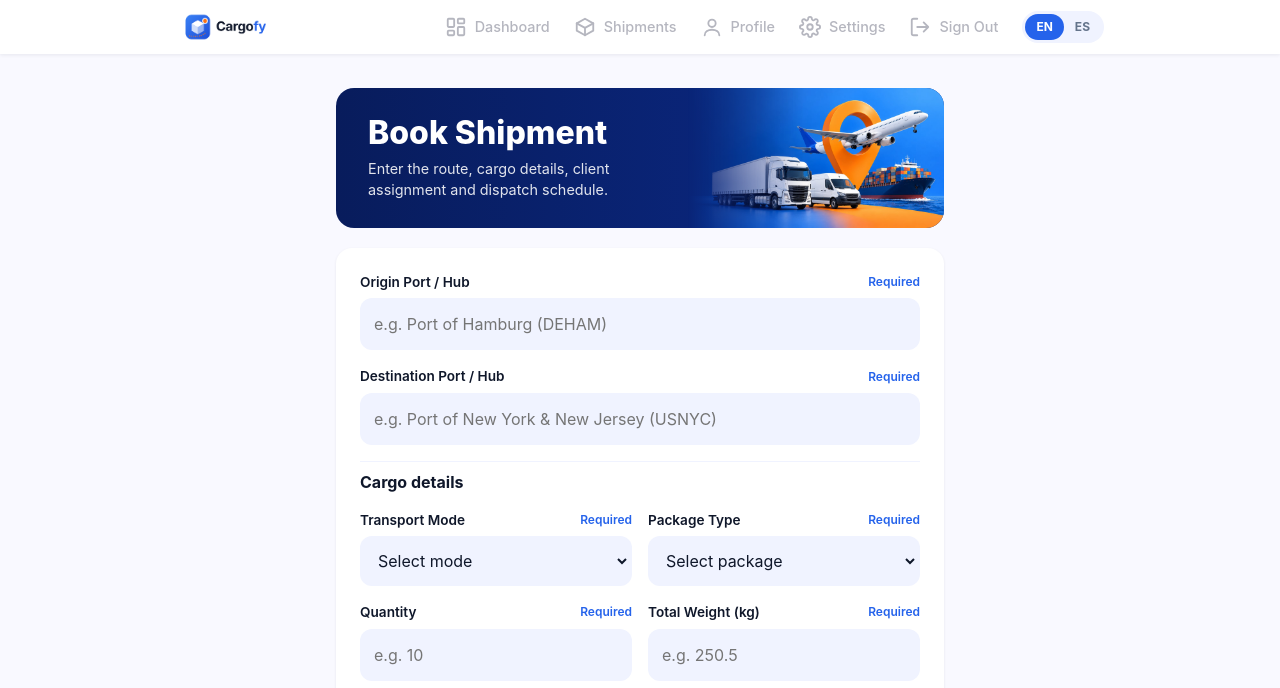
it: NewShipmentView › shows the server error message when creating fails
The image size is (1280, 688).
Type "Vigo, ES" into the field with id "origin" at x=640, y=324, box x1=360 y1=298 x2=920 y2=350
Type "Oslo, NO" into the field with id "destination" at x=640, y=419, box x1=360 y1=393 x2=920 y2=445
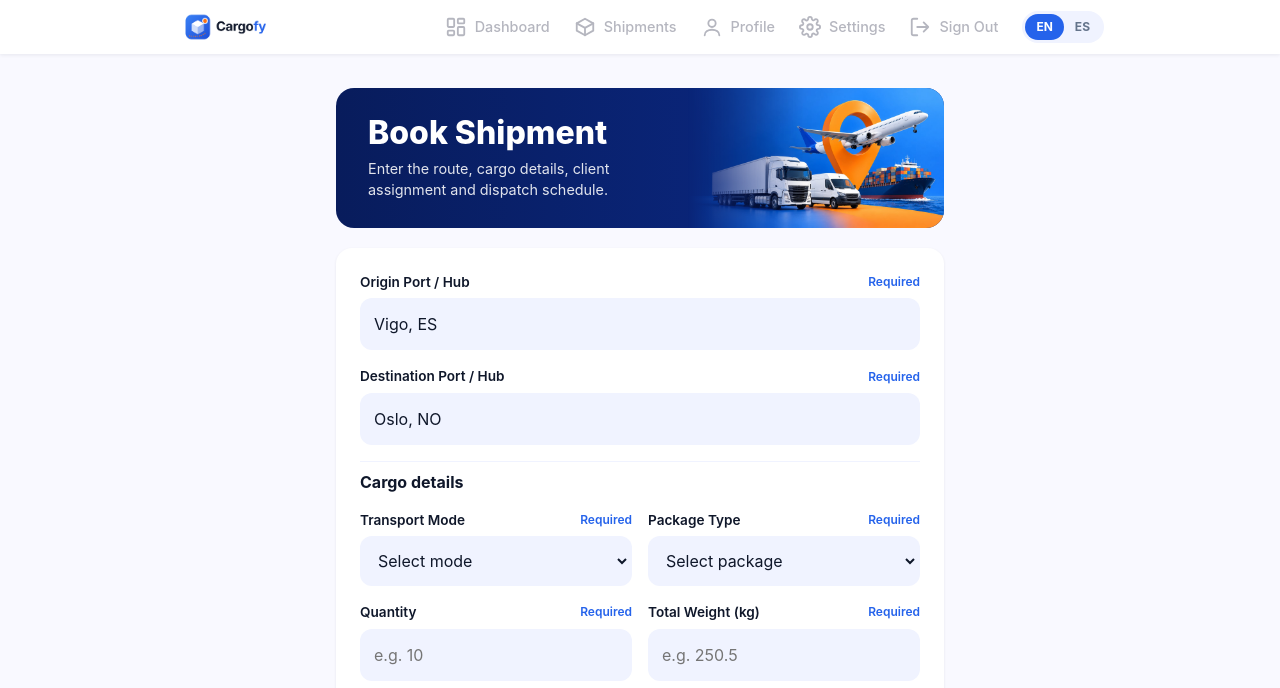
Select "🚢 Sea" in the dropdown with id "transportMode" at x=496, y=561, box x1=360 y1=536 x2=632 y2=586
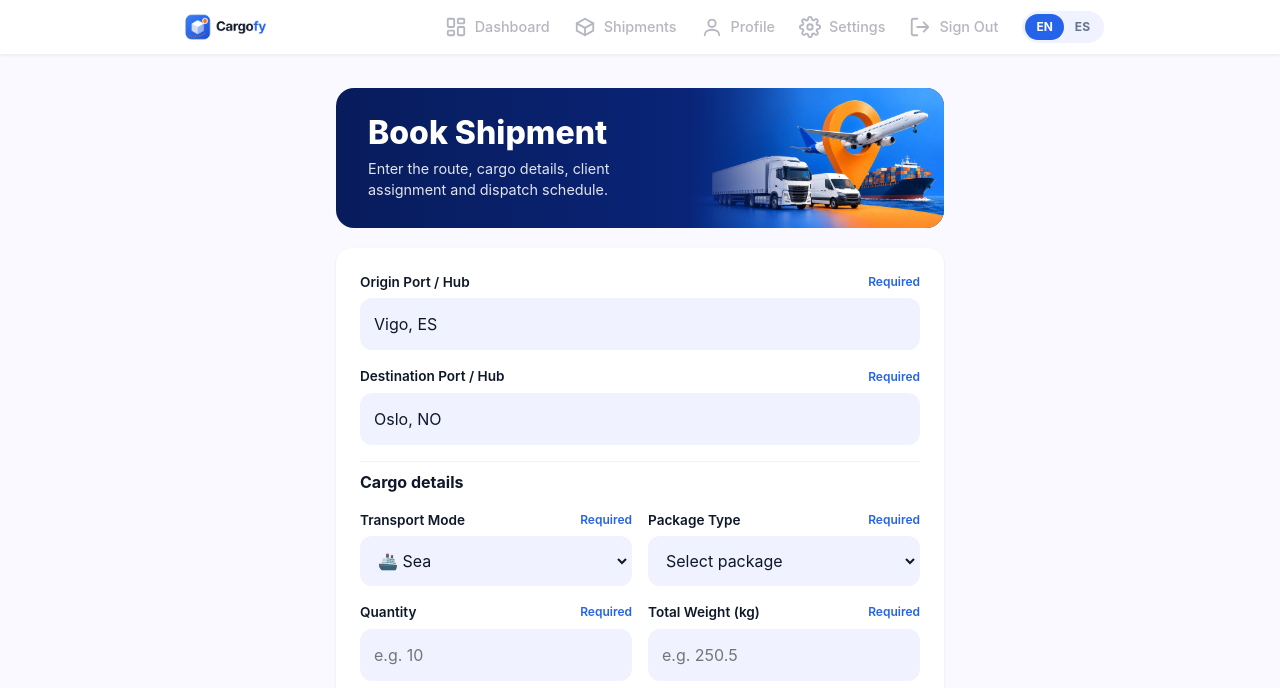
Select "🧰 Box" in the dropdown labelled "Package Type Required" at x=784, y=561, box x1=648 y1=536 x2=920 y2=586
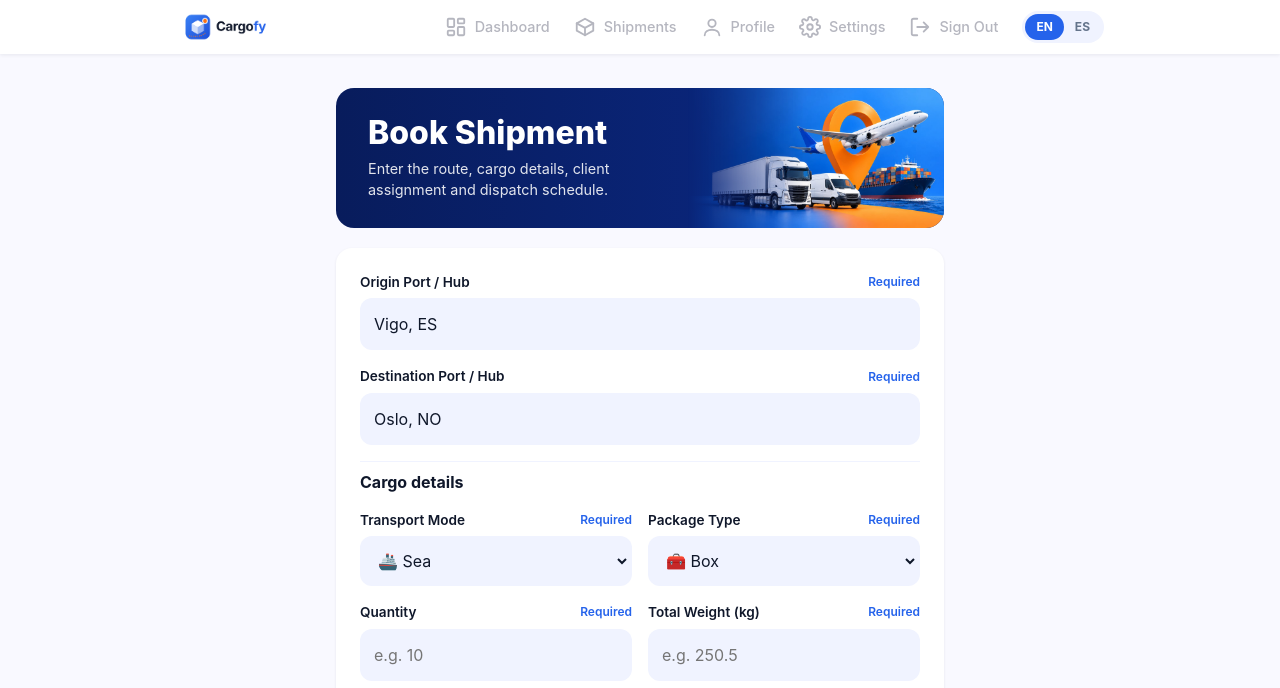
Type "10" into the number field labelled "Quantity Required" at x=496, y=655, box x1=360 y1=629 x2=632 y2=681
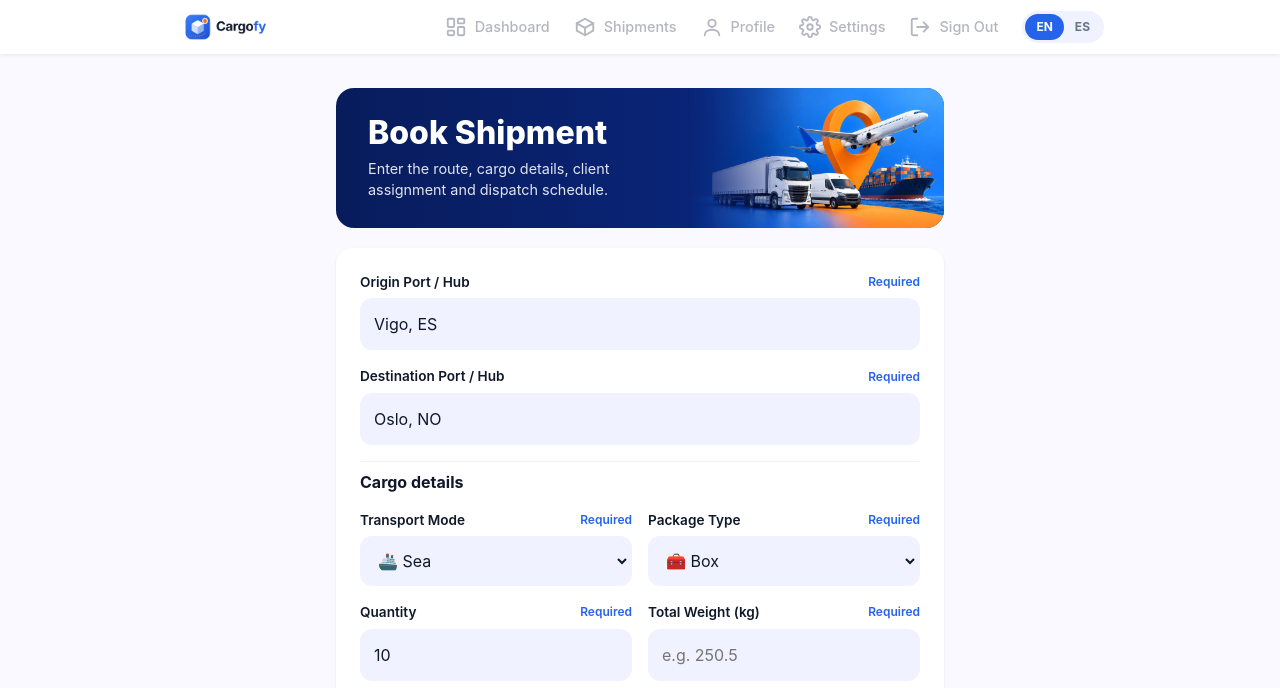
Type "250.5" into the number field with id "weightKg" at x=784, y=655, box x1=648 y1=629 x2=920 y2=681
(page scrolled)
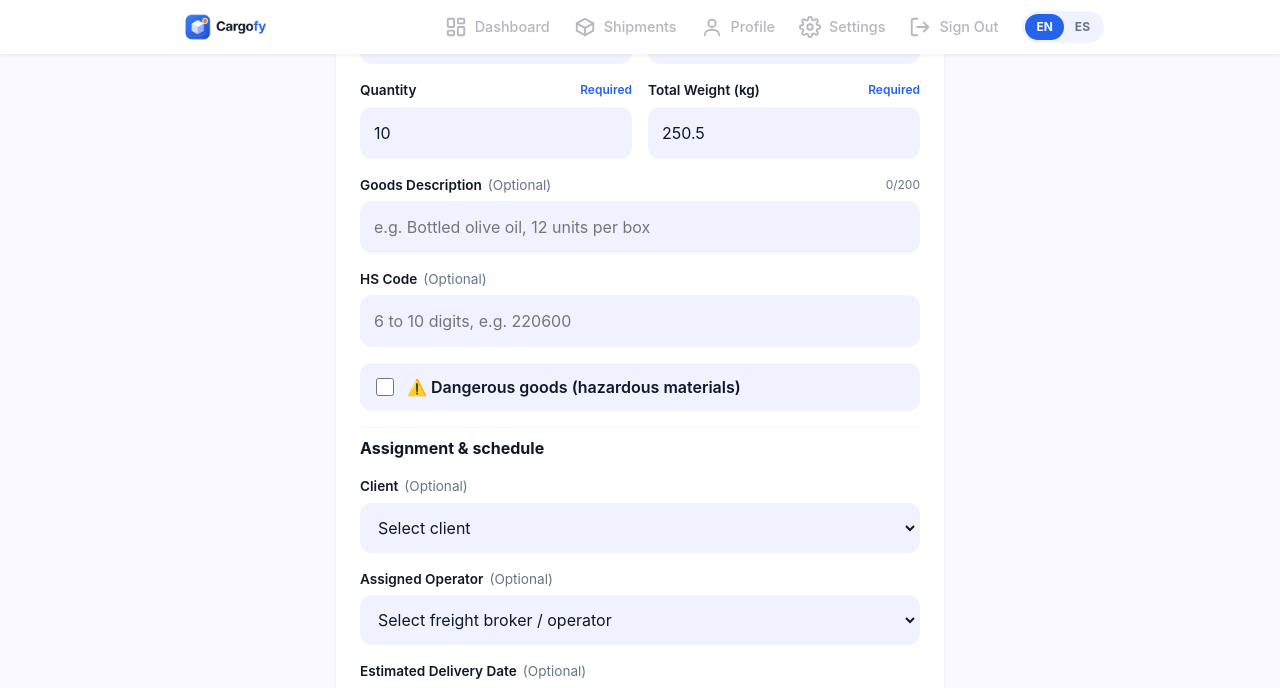
Submit the form
(page scrolled)
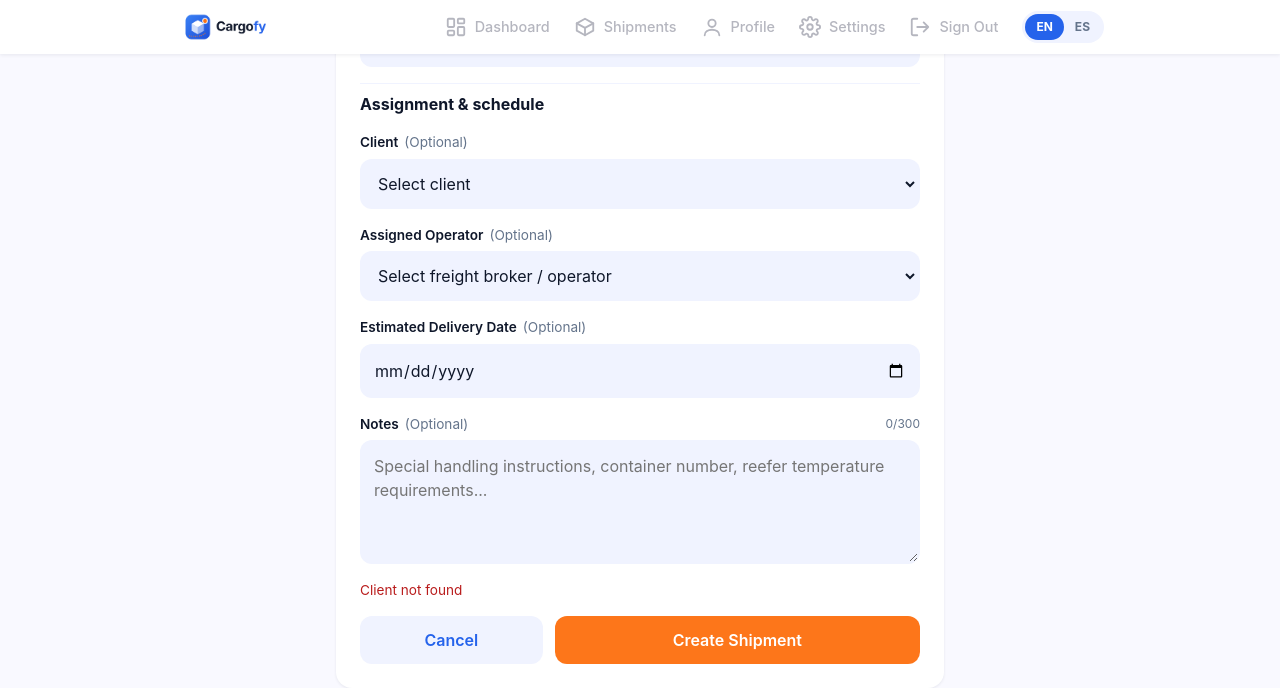
expect the message with class "new__error" reads "Client not found": met, box x1=360 y1=582 x2=462 y2=598
